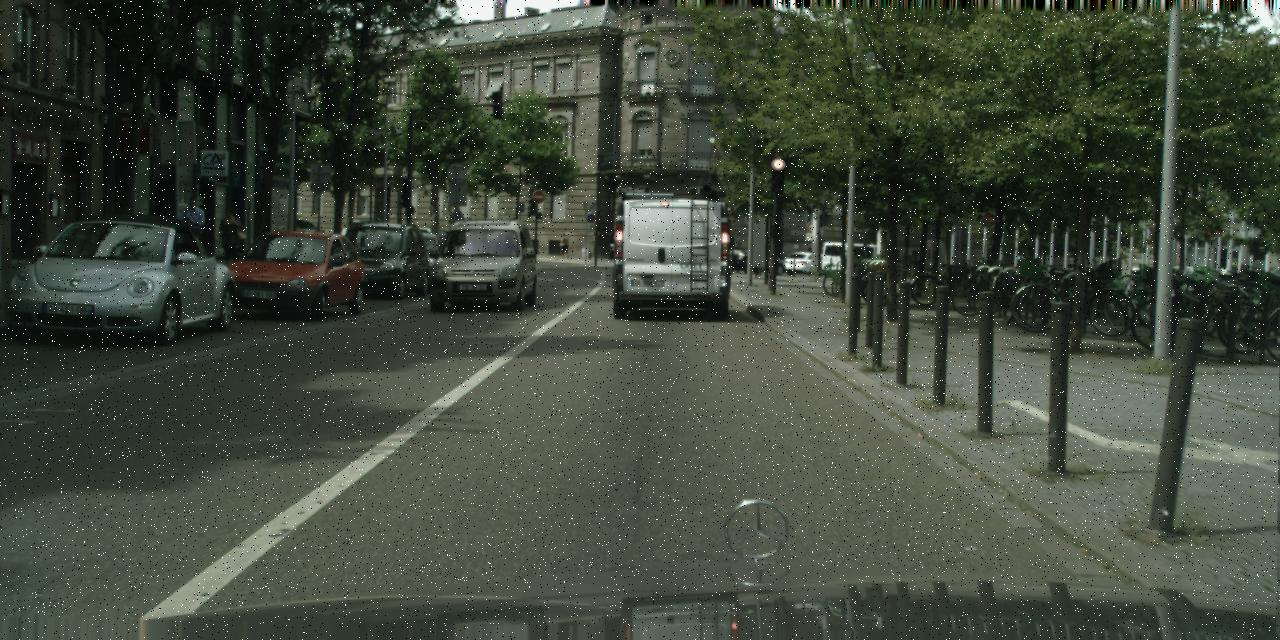ped: (178, 197, 205, 264), (217, 208, 242, 270), (732, 242, 743, 271), (559, 233, 569, 258)
